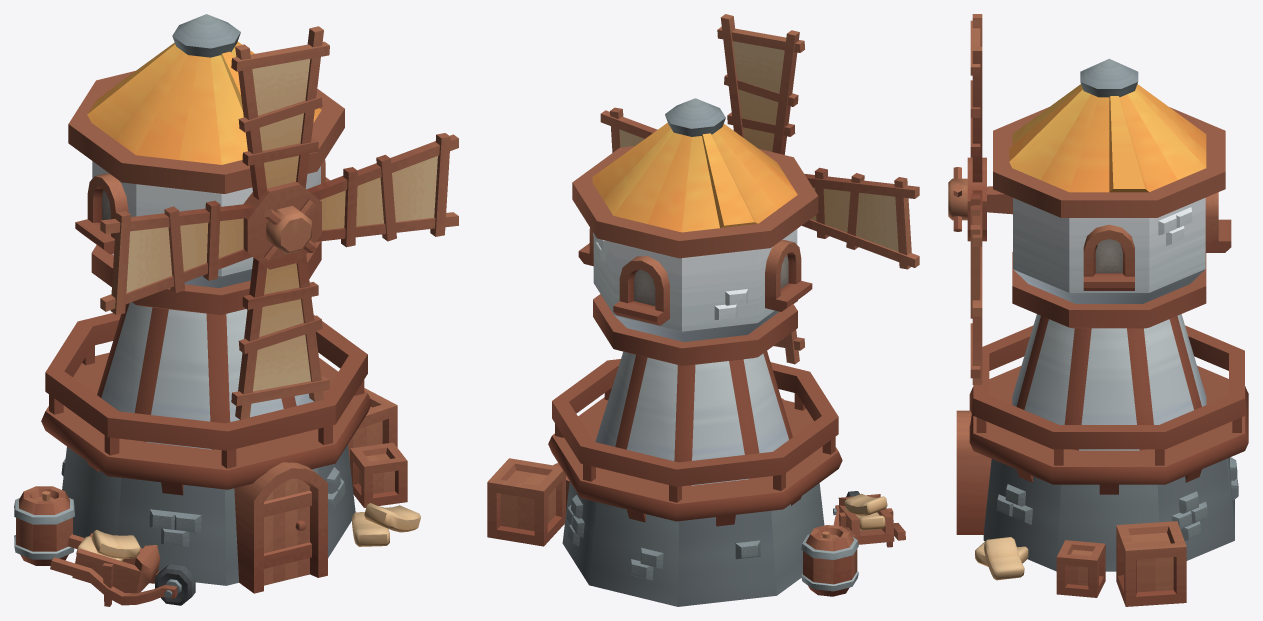
Rendered from windmill_yellow.glb.
The picture shows the model from 3 angles, left to right: view 1: azimuth 30°, elevation 25°; view 2: azimuth 150°, elevation 25°; view 3: azimuth 270°, elevation 25°; orthographic projection. The views are drawn at different scales.
Parts seen in each view (by area): view 1: building_windmill_yellow, building_windmill_top_fan_yellow, building_windmill_top_yellow; view 2: building_windmill_yellow, building_windmill_top_yellow, building_windmill_top_fan_yellow; view 3: building_windmill_yellow, building_windmill_top_yellow, building_windmill_top_fan_yellow.
Boxes of the visible parts, x1,y1,x2,y2 form: building_windmill_yellow: [14, 302, 420, 606]; building_windmill_top_fan_yellow: [100, 26, 458, 419]; building_windmill_top_yellow: [68, 14, 344, 314]; building_windmill_yellow: [487, 351, 905, 606]; building_windmill_top_yellow: [572, 98, 818, 365]; building_windmill_top_fan_yellow: [600, 14, 919, 364]; building_windmill_yellow: [956, 314, 1248, 606]; building_windmill_top_yellow: [987, 58, 1231, 328]; building_windmill_top_fan_yellow: [948, 14, 986, 384].
Size of the model in its own units: 1.13 by 1.46 by 0.8165.
Materials: 1 (1 with a texture image).
